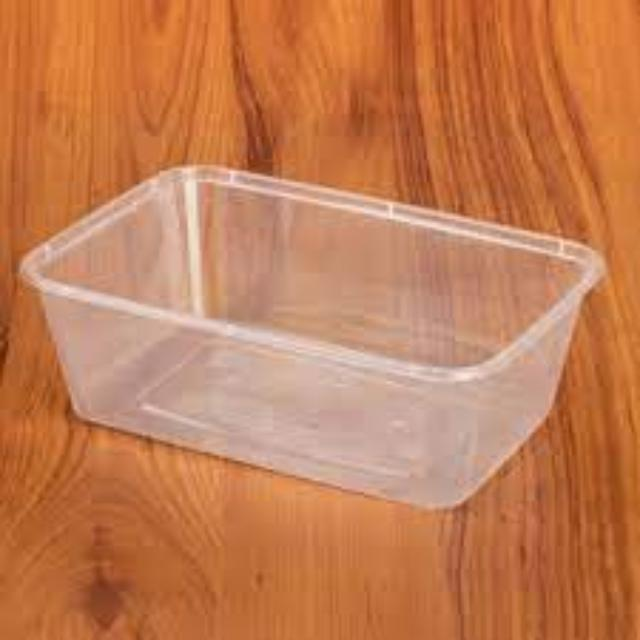Recipiente plastico: (20, 165, 608, 513)
